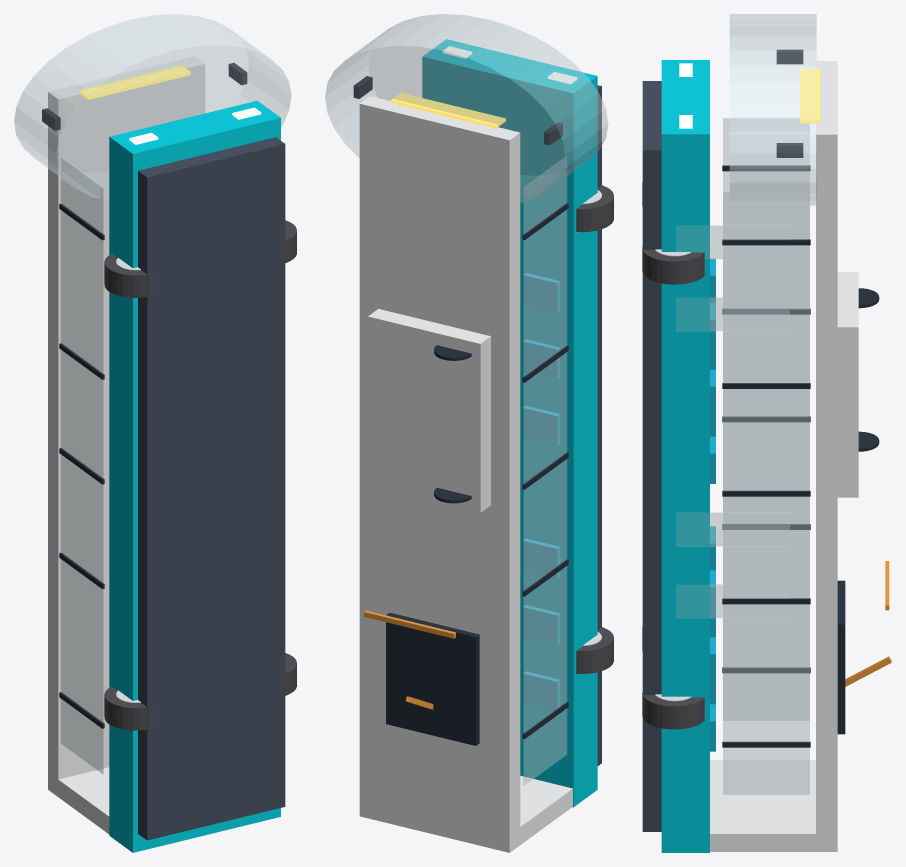
The model's file is bus.glb.
The picture shows the model from 3 angles, left to right: view 1: azimuth 30°, elevation 25°; view 2: azimuth 150°, elevation 25°; view 3: azimuth 270°, elevation 25°; orthographic projection. The views are drawn at different scales.
Visible parts, largest first — view 1: Bus_Chassis, Bus_Roof_White, Bus_Windshield, Bus_Body_Skirt, Bus_Glass_SideL, Bus_Rear_Wall, Bus_Wheel_FL_Tire, Bus_Wheel_RL_Tire, Bus_LED_Board, Bus_Wheel_RR_Tire, Bus_Wheel_FR_Tire; view 2: Bus_Roof_White, Bus_Body_Skirt, Bus_Windshield, Bus_Glass_SideL, Bus_Roof_AC, Bus_Panto_Base, Bus_Chassis, Bus_Rear_Wall, Bus_LED_Board, Bus_Seat_L.001, Bus_Seat_L.003, Bus_Seat_L.005 (+6 smaller); view 3: Bus_Glass_SideR, Bus_Glass_SideL, Bus_Body_Skirt, Bus_Roof_White, Bus_Windshield, Bus_Chassis, Bus_Rear_Wall, Bus_Roof_AC, Bus_Door_FR, Bus_Door_ML, Bus_Door_MR, Bus_Door_FL (+14 smaller).
Part boxes in pixels (bbox=[...]): Bus_Chassis: bbox=[138, 137, 285, 840]; Bus_Roof_White: bbox=[48, 56, 205, 796]; Bus_Windshield: bbox=[14, 14, 291, 201]; Bus_Body_Skirt: bbox=[109, 100, 280, 852]; Bus_Glass_SideL: bbox=[60, 158, 103, 774]; Bus_Rear_Wall: bbox=[55, 767, 109, 833]; Bus_Wheel_FL_Tire: bbox=[104, 254, 153, 297]; Bus_Wheel_RL_Tire: bbox=[104, 686, 153, 730]; Bus_LED_Board: bbox=[78, 65, 190, 99]; Bus_Wheel_RR_Tire: bbox=[278, 653, 296, 697]; Bus_Wheel_FR_Tire: bbox=[278, 220, 296, 264]; Bus_Roof_White: bbox=[359, 96, 520, 852]; Bus_Body_Skirt: bbox=[422, 39, 597, 807]; Bus_Windshield: bbox=[325, 14, 608, 202]; Bus_Glass_SideL: bbox=[523, 156, 567, 785]; Bus_Roof_AC: bbox=[368, 309, 490, 512]; Bus_Panto_Base: bbox=[386, 612, 479, 745]; Bus_Chassis: bbox=[597, 85, 601, 765]; Bus_Rear_Wall: bbox=[517, 775, 572, 846]; Bus_LED_Board: bbox=[391, 93, 505, 128]; Bus_Seat_L.001: bbox=[522, 605, 560, 645]; Bus_Seat_L.003: bbox=[522, 405, 560, 445]; Bus_Seat_L.005: bbox=[522, 273, 560, 313]; Bus_Glass_SideR: bbox=[723, 192, 809, 794]; Bus_Glass_SideL: bbox=[723, 118, 809, 720]; Bus_Body_Skirt: bbox=[661, 60, 709, 852]; Bus_Roof_White: bbox=[816, 61, 837, 851]; Bus_Windshield: bbox=[729, 14, 816, 205]; Bus_Chassis: bbox=[642, 81, 661, 831]; Bus_Rear_Wall: bbox=[710, 760, 823, 851]; Bus_Roof_AC: bbox=[837, 272, 858, 497]; Bus_Door_FR: bbox=[676, 297, 789, 331]; Bus_Door_ML: bbox=[676, 512, 789, 546]; Bus_Door_MR: bbox=[676, 584, 789, 618]; Bus_Door_FL: bbox=[676, 225, 789, 259].
Bounding box in the file's own units: 4.16 × 12.89 × 3.72.
